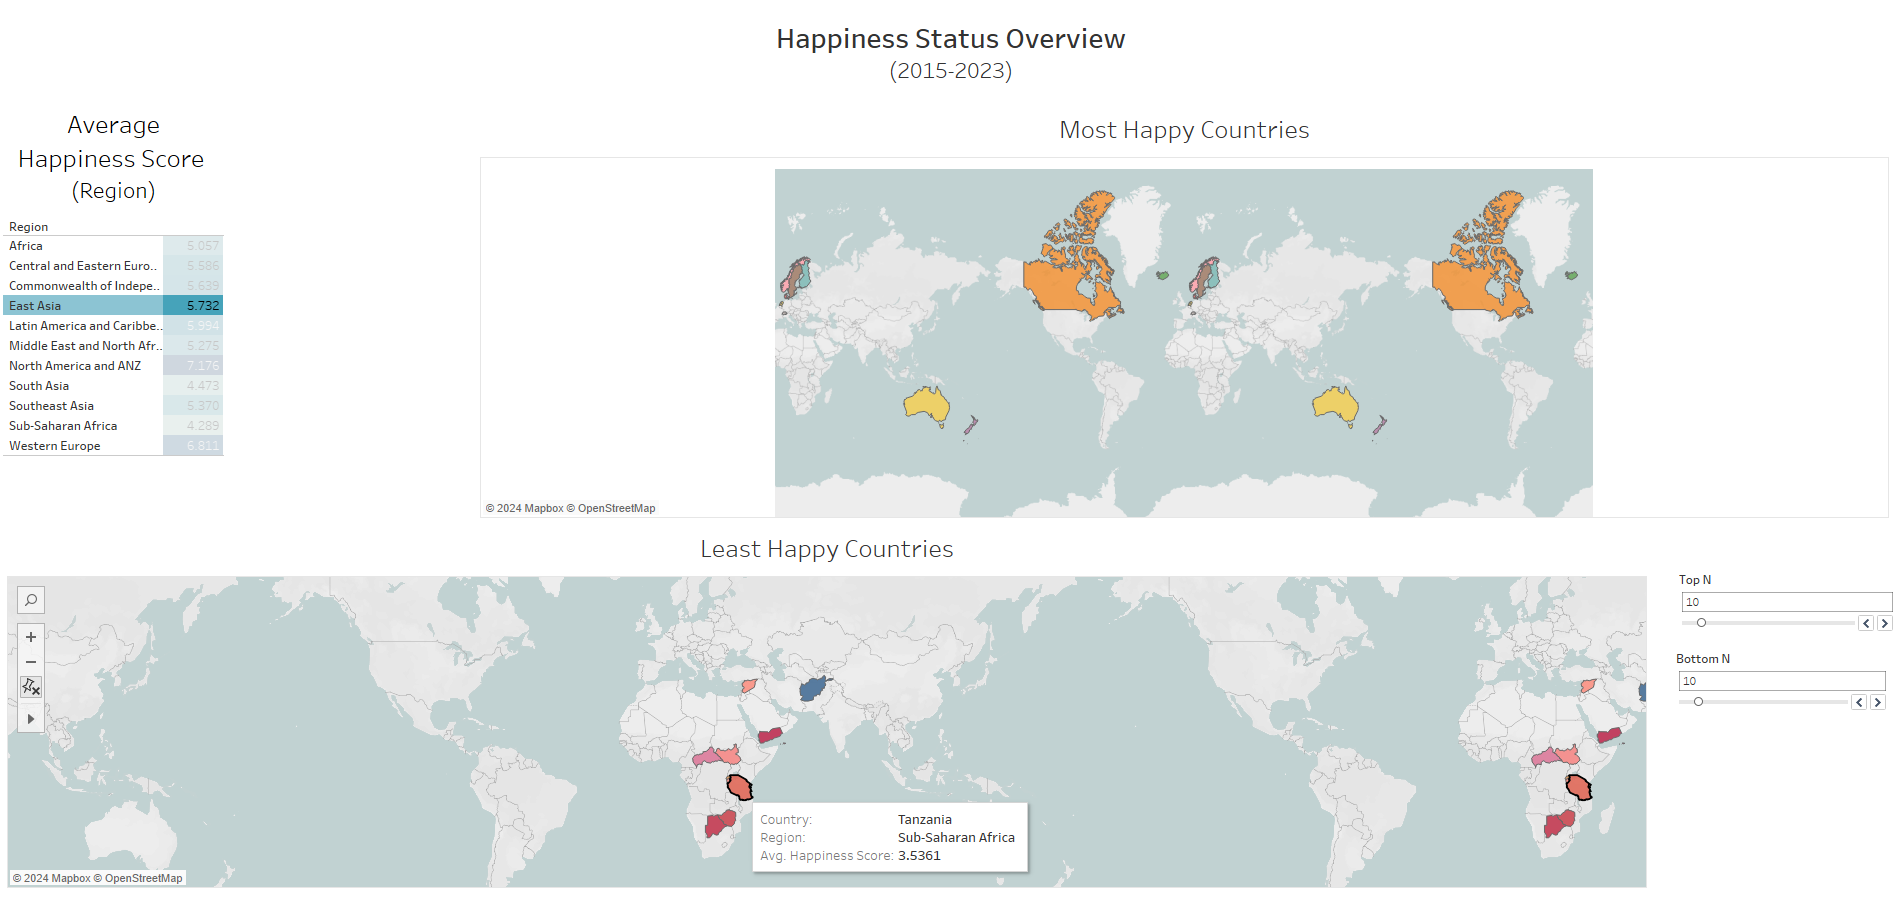

Layout of this report page (visuals, bound fields, positions):
{"tool":"tableau","page":{"name":"Happiness Dashboard","canvas":[1000,1000],"units":"permille","ordinal":0},"visuals":[{"type":"title","box":[6.9,8,986.2,95]},{"type":"worksheet","title":"Avg Happiness by Region","mark":"Square","rows":["region"],"box":[6.9,103,986.2,889]},{"type":"worksheet","title":"Most Happy","mark":"Multipolygon","box":[254.7,111,733.6,406]},{"type":"worksheet","title":"Least Happy","mark":"Multipolygon","box":[8.5,526,854.3,365]},{"type":"parameter","param":"[Parameters].[Parameter 1]","box":[879.4,569,113.2,67]},{"type":"parameter","param":"[Parameters].[Parameter 2]","box":[877.6,648,110.7,67]}]}

Visuals, with their boxes on the dashboard's canvas, which has no fixed pixel size, in thousandths of its width and height (x1, y1, x2, y2). These are canvas units, not pixel positions in the 1903x908 screenshot, which may show the page scaled, cropped or inside an application window:
title: crop(7, 8, 993, 103)
"Avg Happiness by Region" worksheet (Square marks): crop(7, 103, 993, 992)
"Most Happy" worksheet (Multipolygon marks): crop(255, 111, 988, 517)
"Least Happy" worksheet (Multipolygon marks): crop(8, 526, 863, 891)
parameter: crop(879, 569, 993, 636)
parameter: crop(878, 648, 988, 715)
